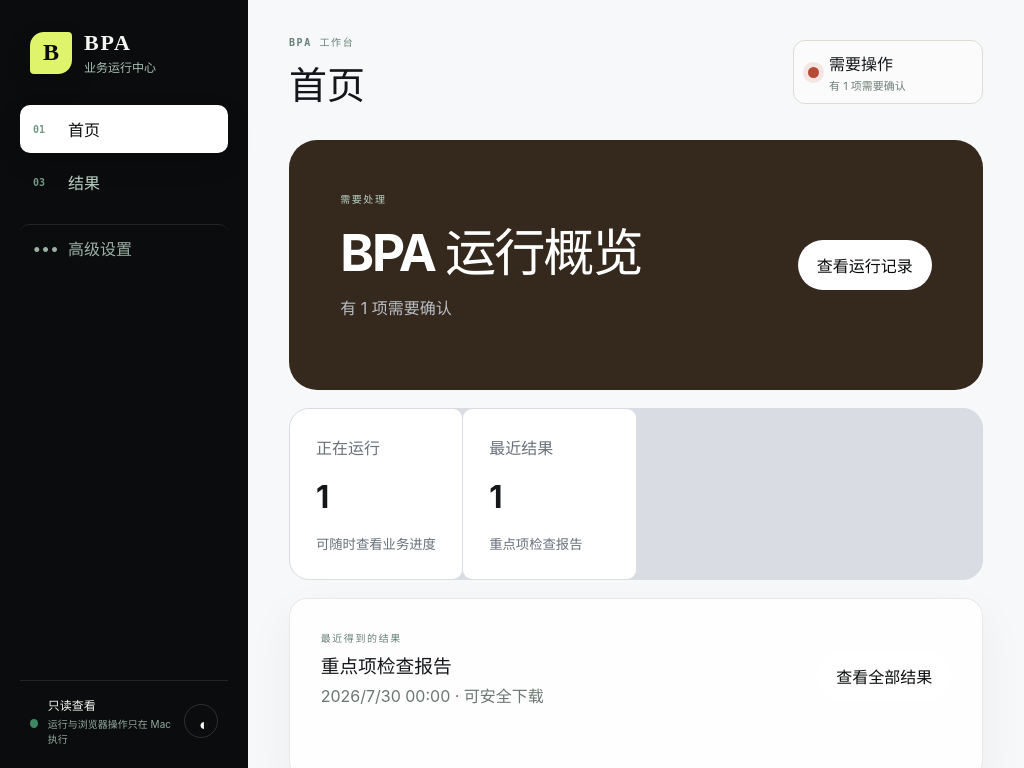
Operator Console › hides every mutation entry in a viewer session
Expected: the heading "BPA 运行概览" is shown, [340, 212, 642, 286]
Expected: the text "只读查看" is shown, [48, 698, 96, 713]
Click the button "••• 高级设置" at (124, 248), box [20, 224, 228, 271]
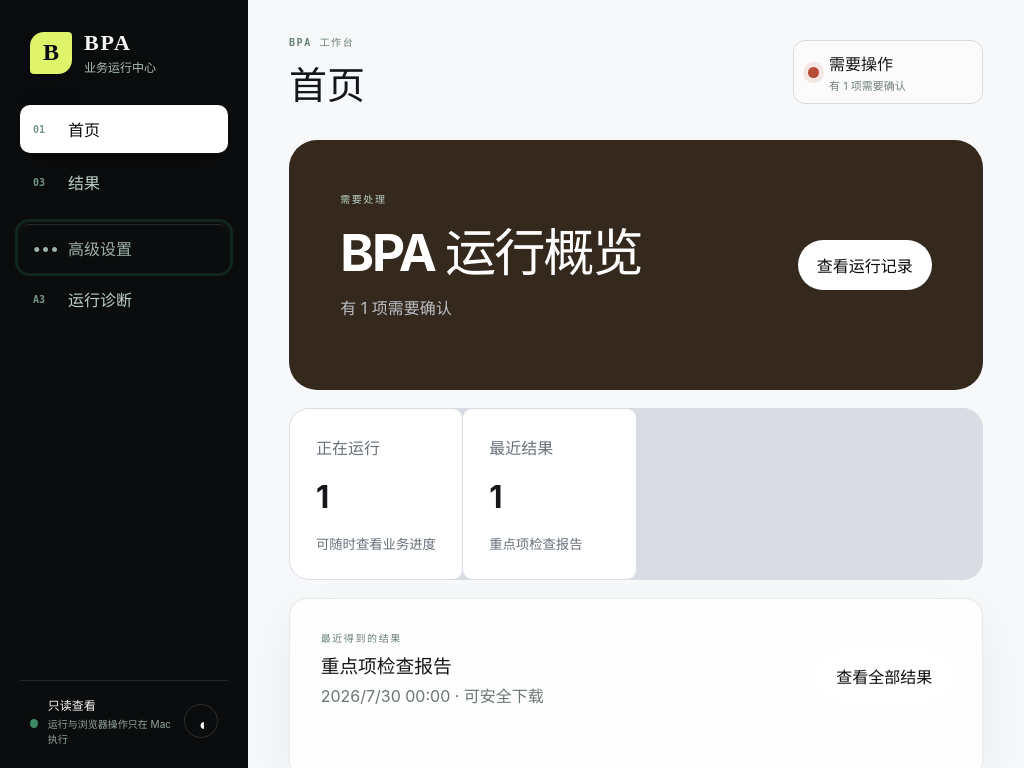
Expected: the button "A3 运行诊断" is shown, [20, 275, 228, 323]
